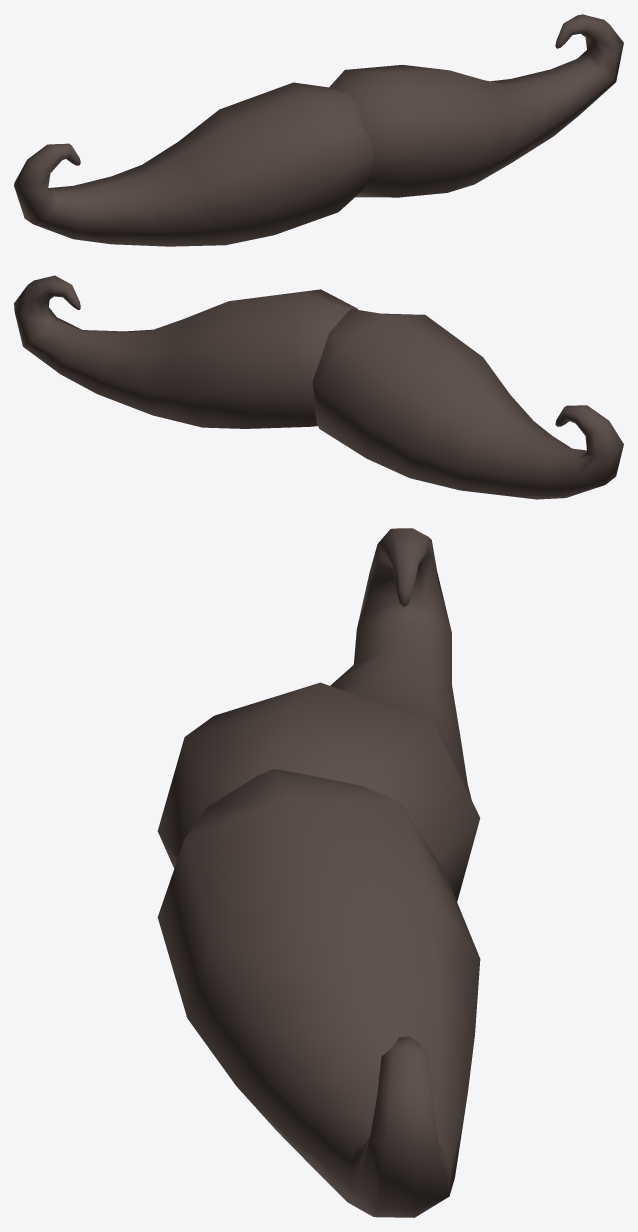
Rendered from Mustache_03.glb.
3 renders of one model, top to bottom at view 1: azimuth 30°, elevation 25°; view 2: azimuth 150°, elevation 25°; view 3: azimuth 270°, elevation 25°, orthographic. The views are drawn at different scales.
Parts seen in each view (by area): view 1: Mustache_03; view 2: Mustache_03; view 3: Mustache_03.
Boxes of the visible parts, x1=… form: Mustache_03: x1=14, y1=14, x2=623, y2=246; Mustache_03: x1=14, y1=275, x2=623, y2=499; Mustache_03: x1=157, y1=528, x2=480, y2=1217.
Size of the model in its own units: 0.2885 by 0.0613 by 0.0668.
1 material, 1 textured.
